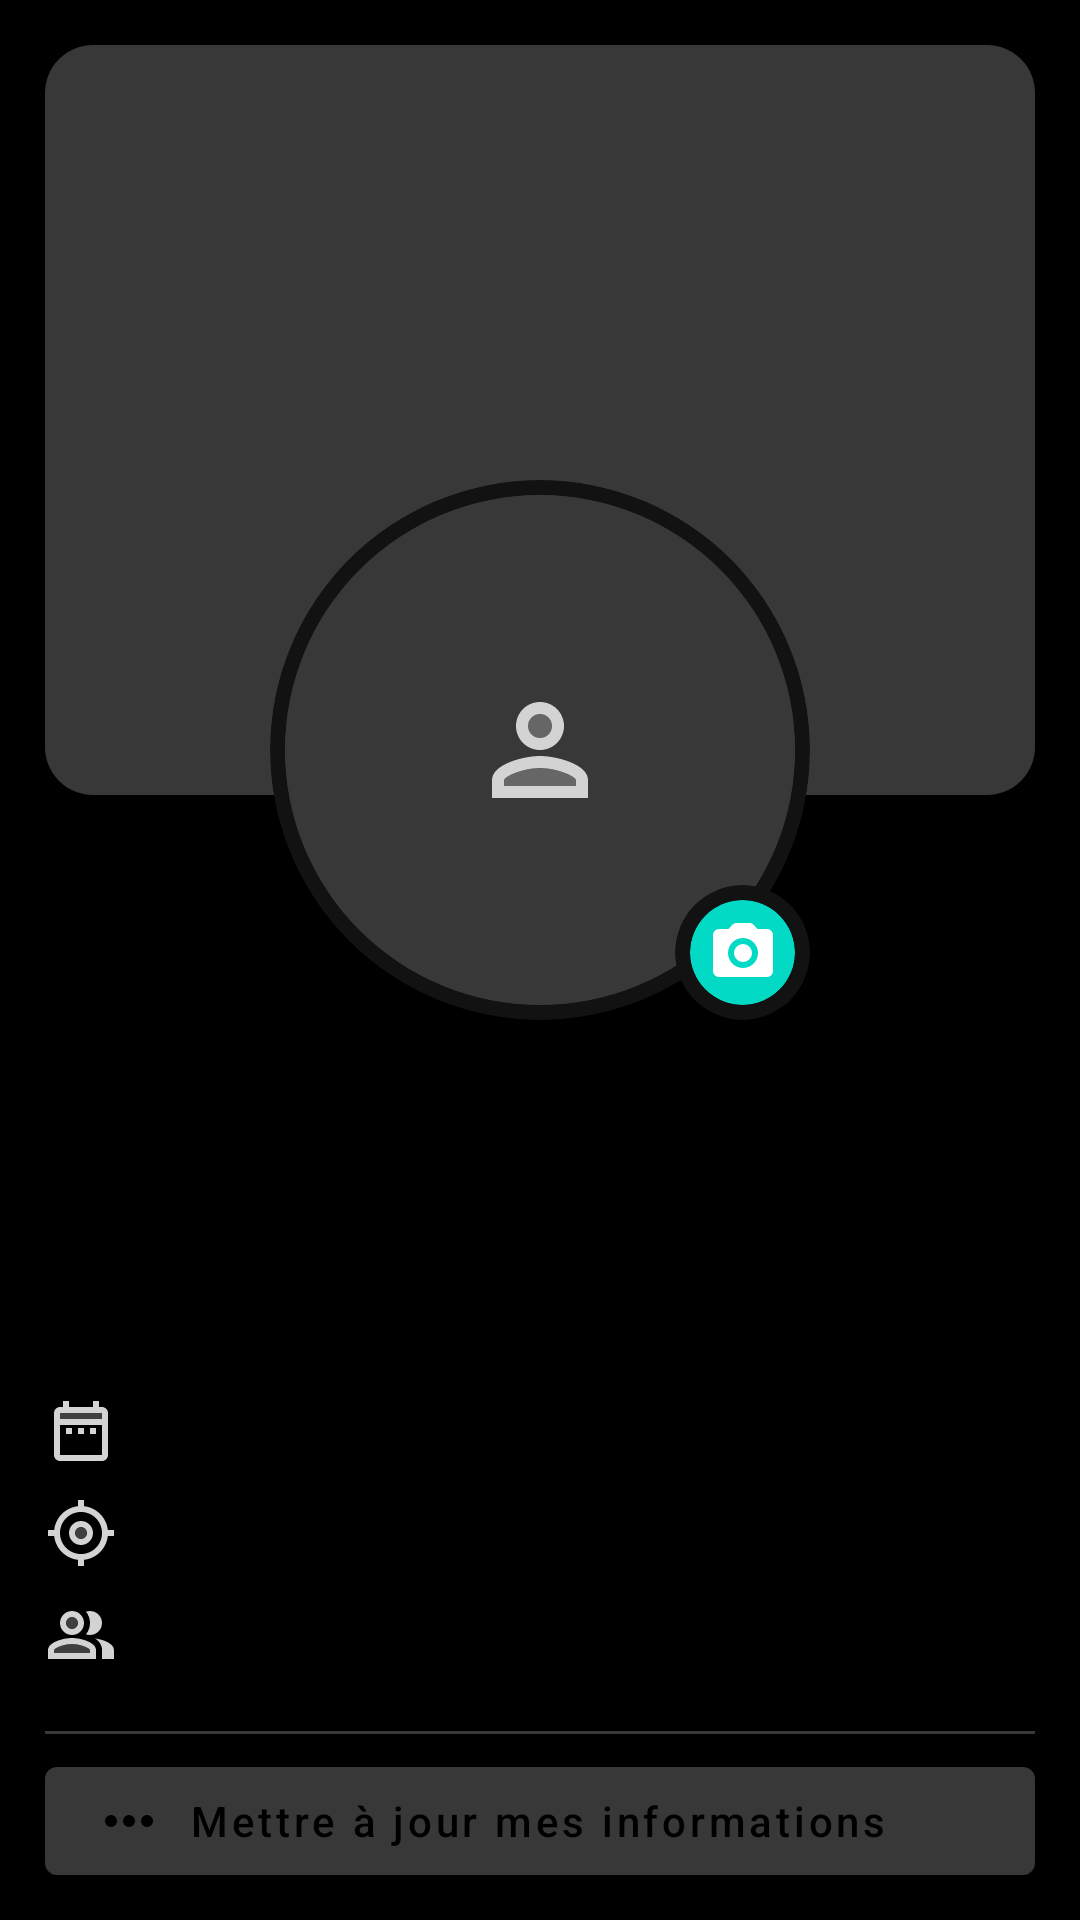

Icons on this 1080×1920 Android screen, each with the point to tap as (x=x, y=y):
photo camera: (x=742, y=952)
